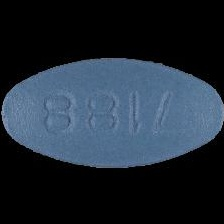0093-7188: (0, 0, 224, 224)
